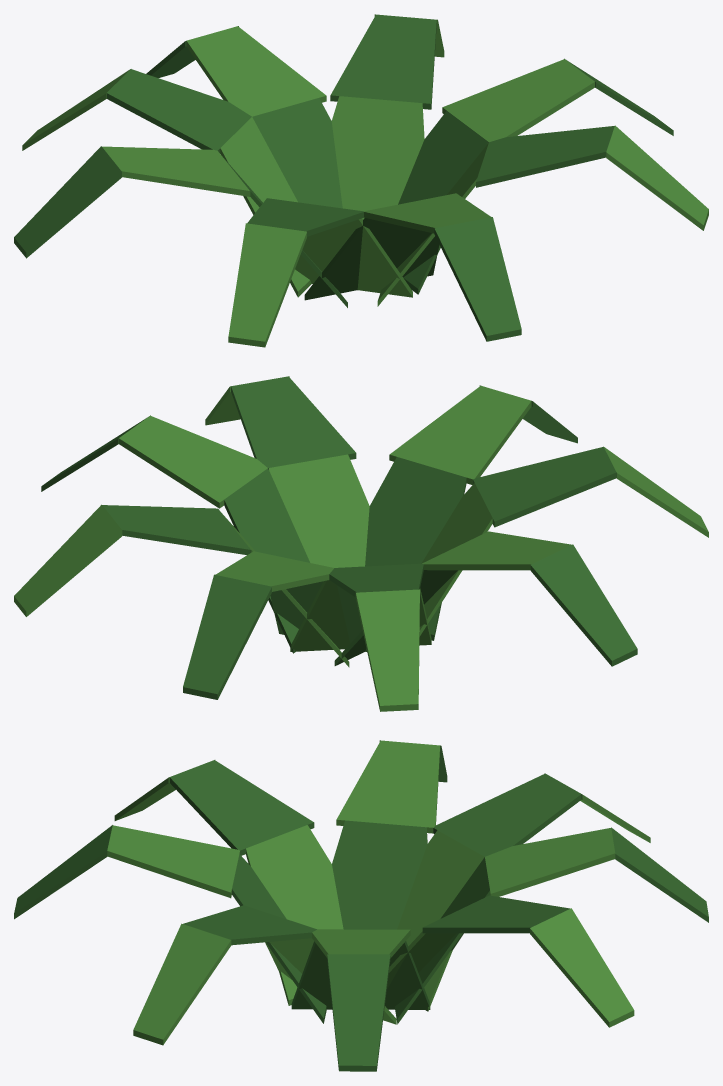
Rendered from cover_fern.glb.
3 renders of one model, top to bottom at view 1: azimuth 30°, elevation 25°; view 2: azimuth 150°, elevation 25°; view 3: azimuth 270°, elevation 25°, orthographic. The views are drawn at different scales.
Visible parts, largest first — view 1: scatter_fern; view 2: scatter_fern; view 3: scatter_fern.
Boxes of the visible parts, x1,y1,x2,y2 form: scatter_fern: [14, 14, 708, 347]; scatter_fern: [14, 376, 708, 711]; scatter_fern: [14, 740, 708, 1071].
Size of the model in its own units: 2.19 by 0.52 by 2.2.
